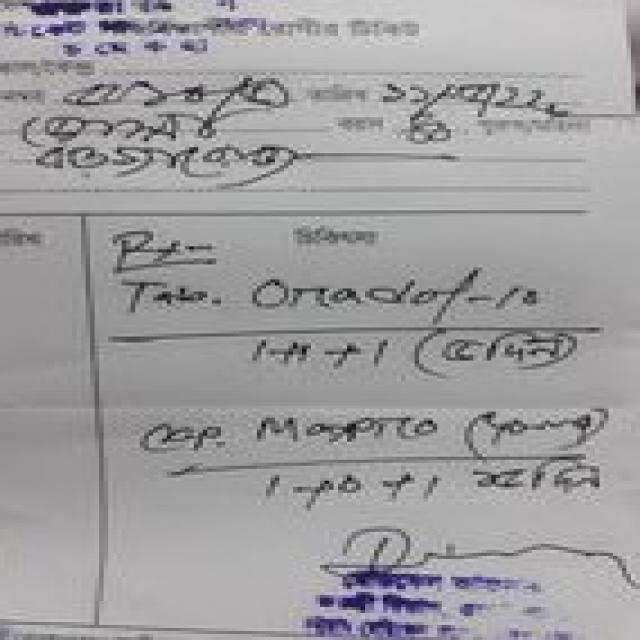Maxpro: (250, 404, 448, 449)
Oradol: (249, 266, 470, 328)
